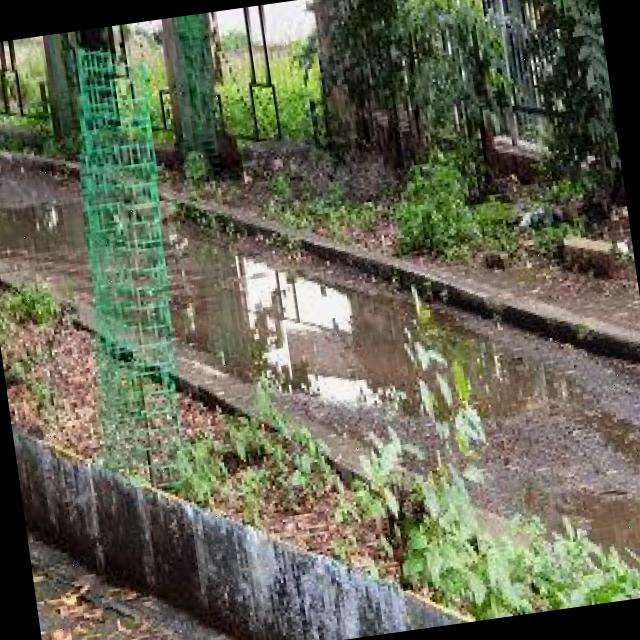waterlogging: (193, 254, 633, 493), (22, 138, 310, 354)
